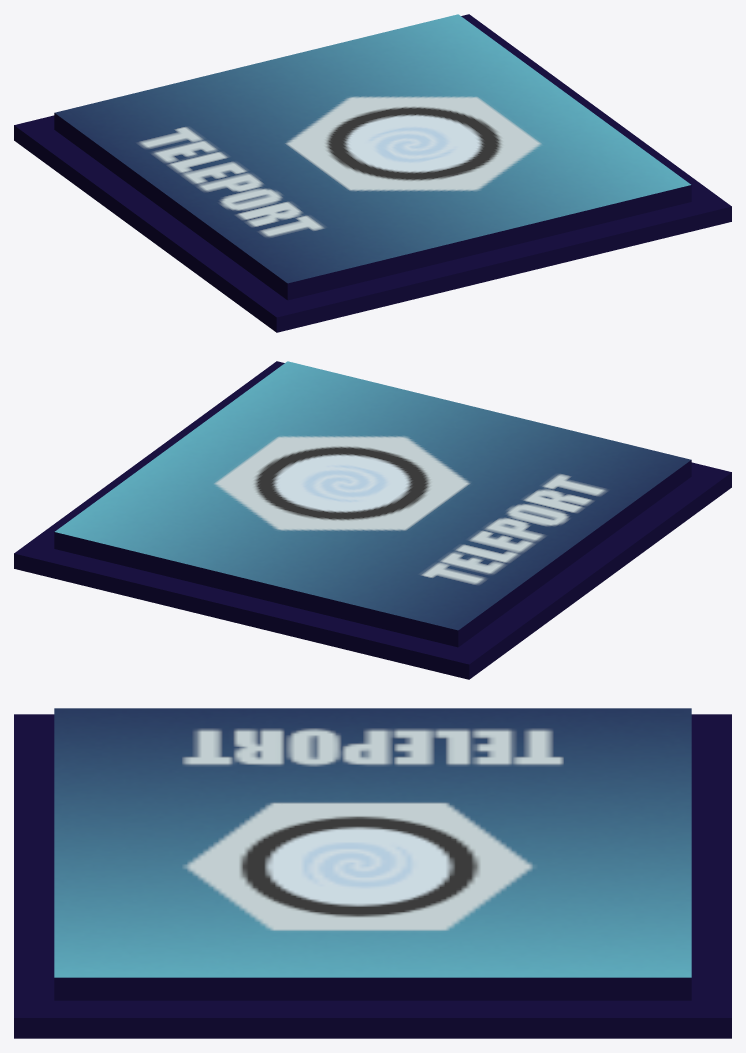
File: TeleportationTile.fbx
3 renders of one model, top to bottom at view 1: azimuth 30°, elevation 25°; view 2: azimuth 150°, elevation 25°; view 3: azimuth 270°, elevation 25°, orthographic. The views are drawn at different scales.
Parts seen in each view (by area): view 1: TeleportationTile; view 2: TeleportationTile; view 3: TeleportationTile.
Boxes of the visible parts, bbox=[...] form: TeleportationTile: bbox=[14, 14, 731, 332]; TeleportationTile: bbox=[14, 361, 731, 679]; TeleportationTile: bbox=[14, 708, 731, 1038].
Size of the model in its own units: 2 by 0.1355 by 2.
